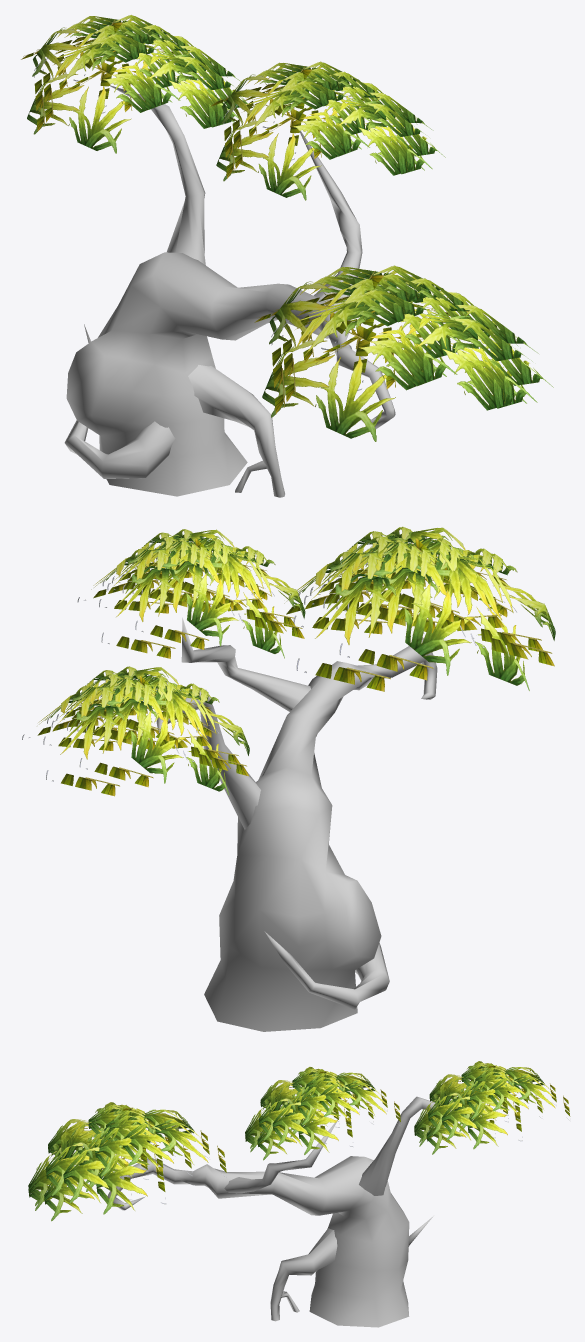
The model's file is shu_004.FBX.
The picture shows the model from 3 angles, top to bottom: view 1: azimuth 30°, elevation 25°; view 2: azimuth 150°, elevation 25°; view 3: azimuth 270°, elevation 25°; orthographic projection. The views are drawn at different scales.
Visible parts, largest first — view 1: Group001; view 2: Group001; view 3: Group001.
Part boxes in pixels (x1,y1,x2,y2): Group001: [21, 15, 553, 497]; Group001: [22, 526, 555, 1031]; Group001: [28, 1061, 570, 1327].
Bounding box in the file's own units: 244 × 306 × 559.
